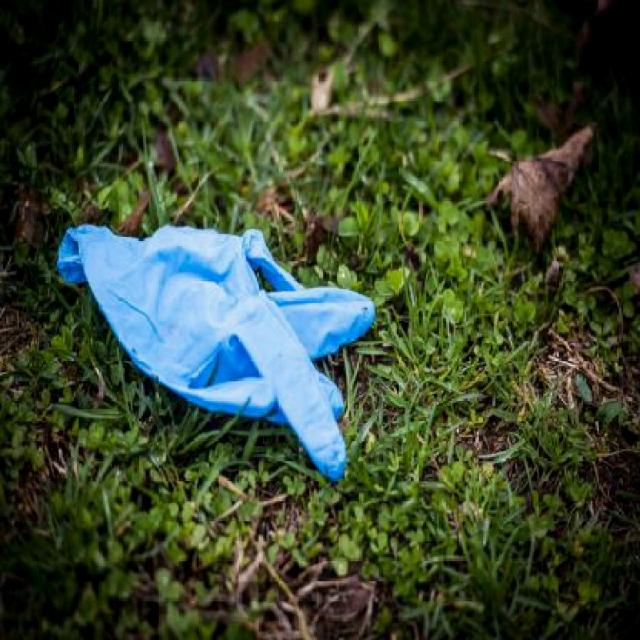glove: (53, 219, 385, 487)
